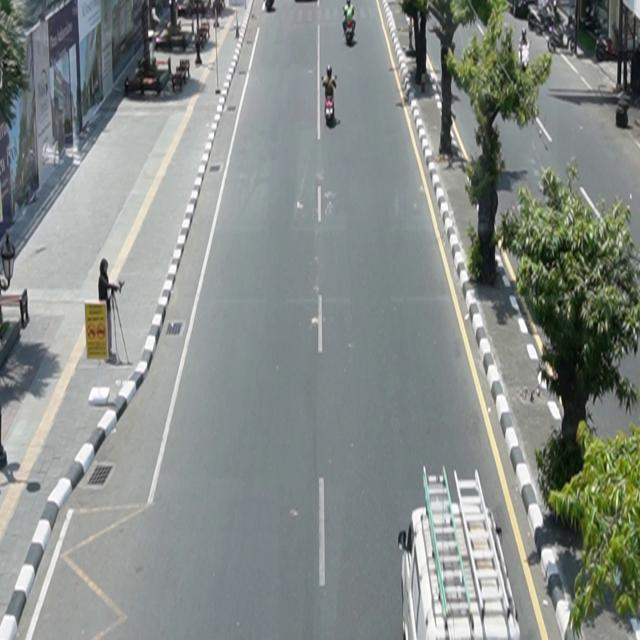bus: (399, 465, 522, 640)
